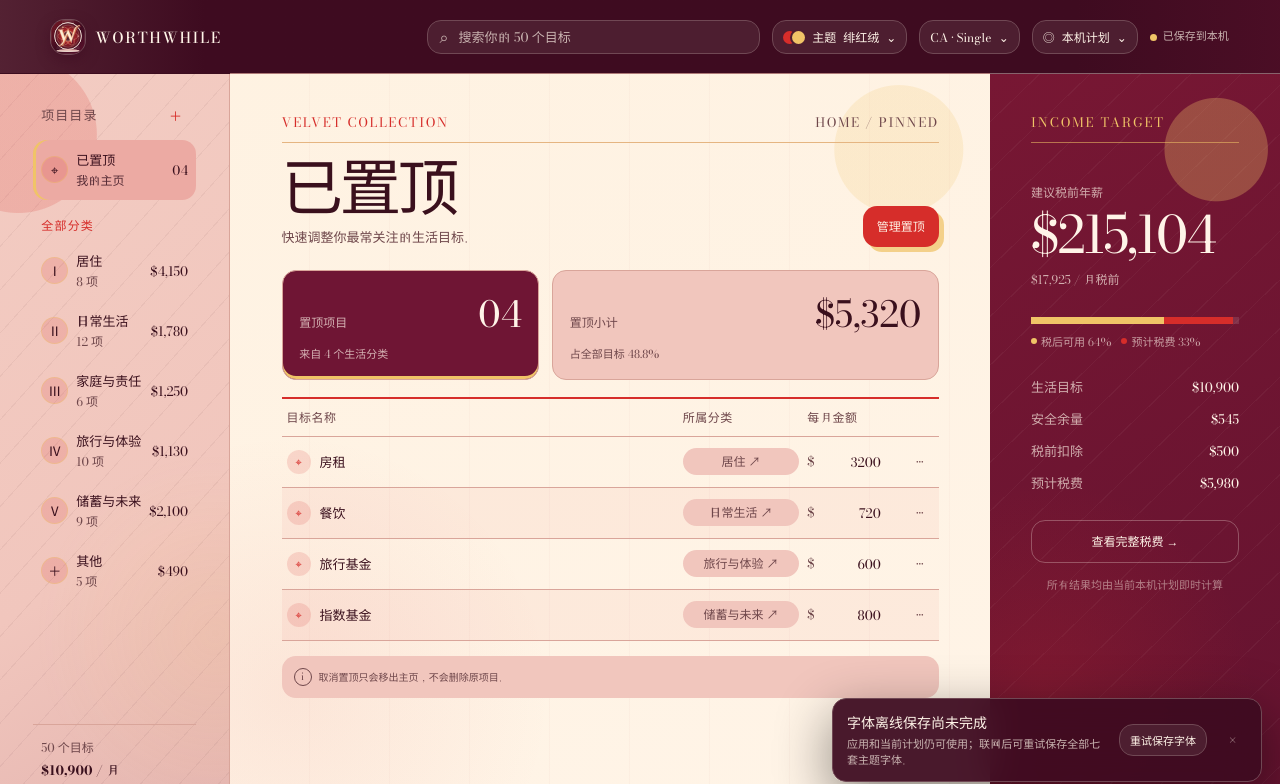
Test: local-first planner › searches across categories and navigates to the result source
Step 1. Type "旅行基金" into the search field named "搜索目标" → point(602, 37), box [456,26,748,48]
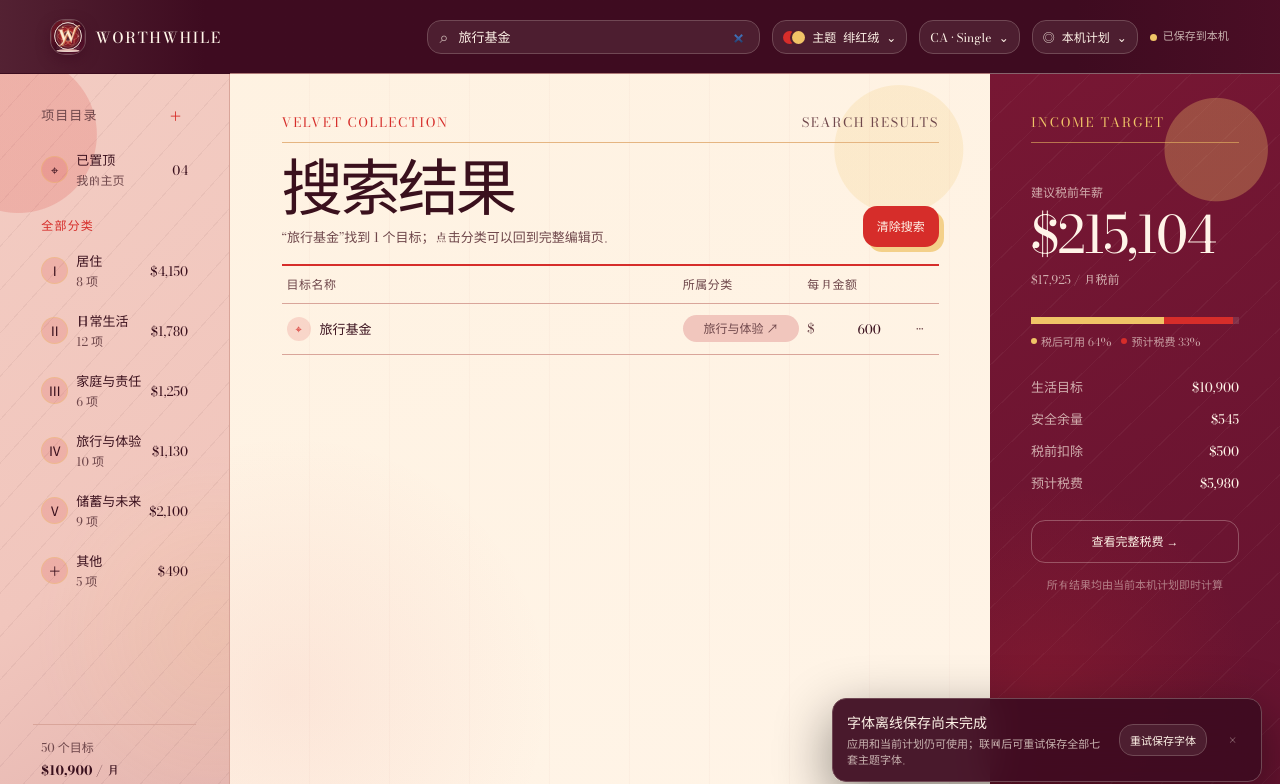
Expected: the heading "搜索结果" is shown, [282,141,514,235]
Expected: the field named "旅行基金名称" is shown, [318,318,675,340]
Step 2. Click the button "旅行与体验 ↗" → point(741, 329), box [683,315,799,342]
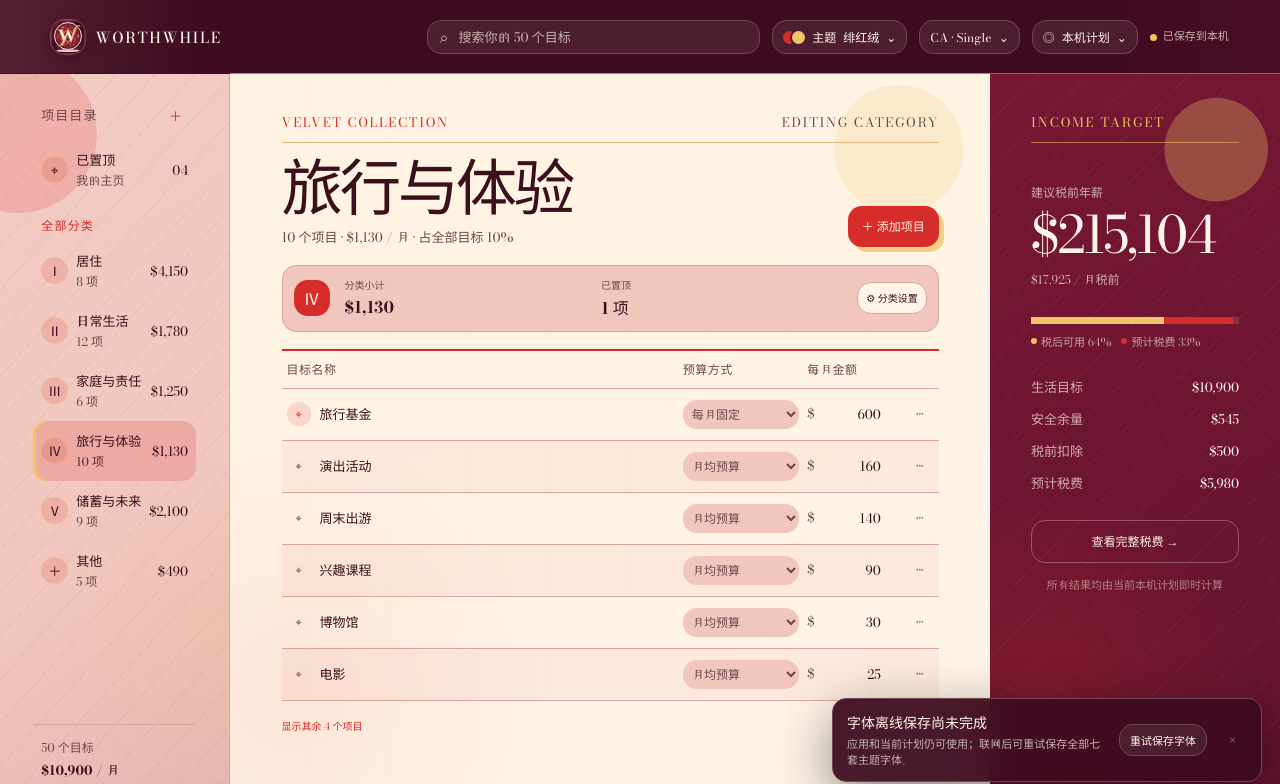
Expected: the heading "旅行与体验" is shown, [282,161,572,217]
